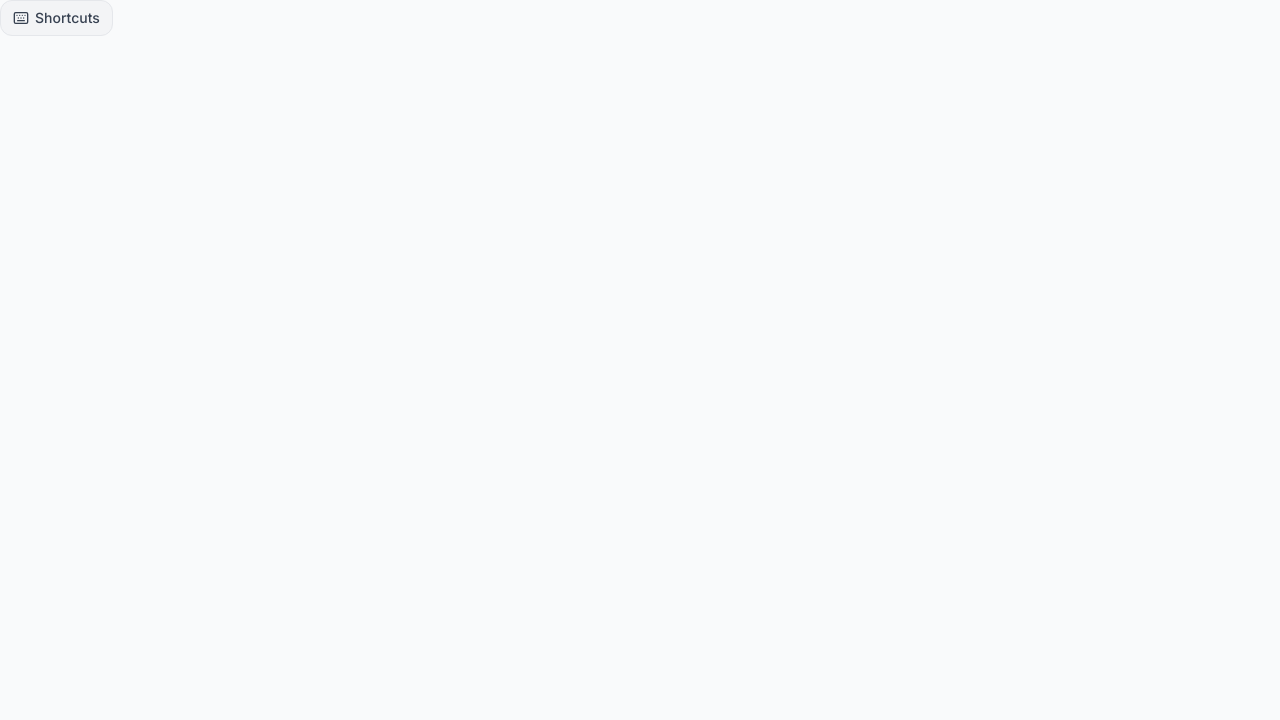
Scenario: KeyboardShortcutsHelp › closes the modal when the X button is clicked
Click the button "Shortcuts".
click(56, 18)  # box [0,0,113,36]
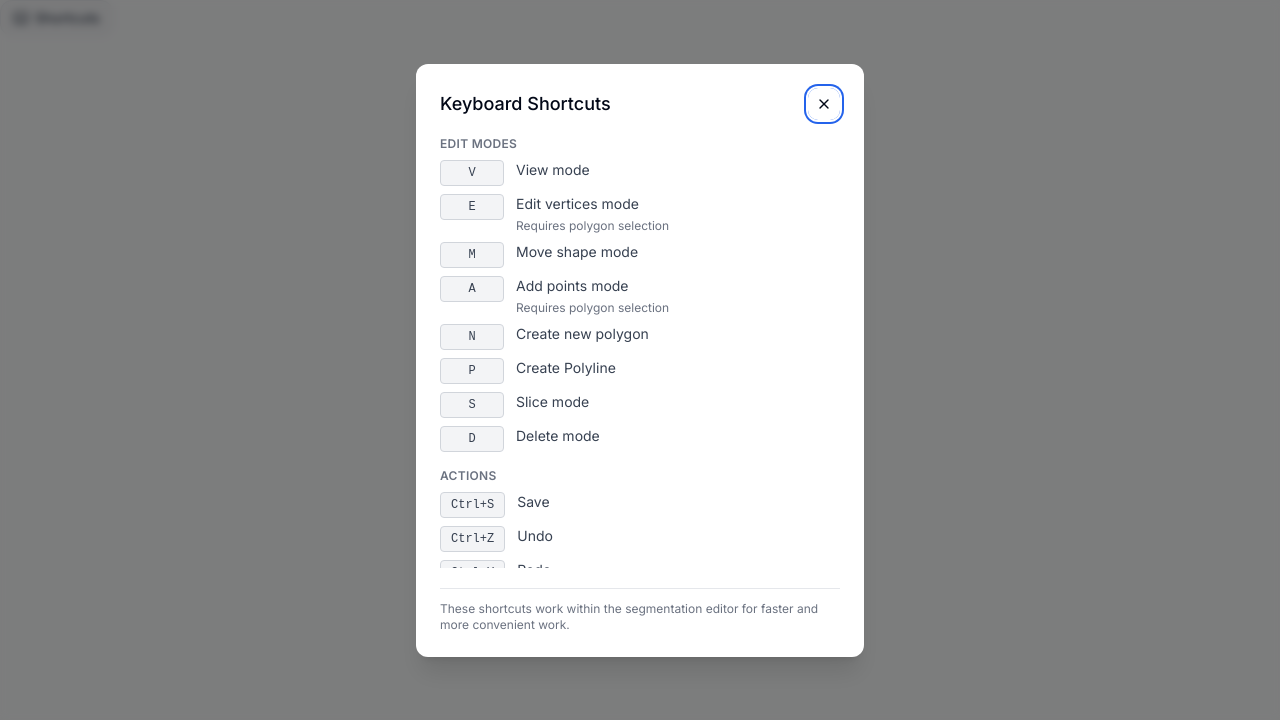
Now the heading "Keyboard Shortcuts" is shown, box [440,90,611,118]
Now the button named "Cancel" is shown
Click the button named "Cancel".
click(824, 104)  # box [808,88,840,120]
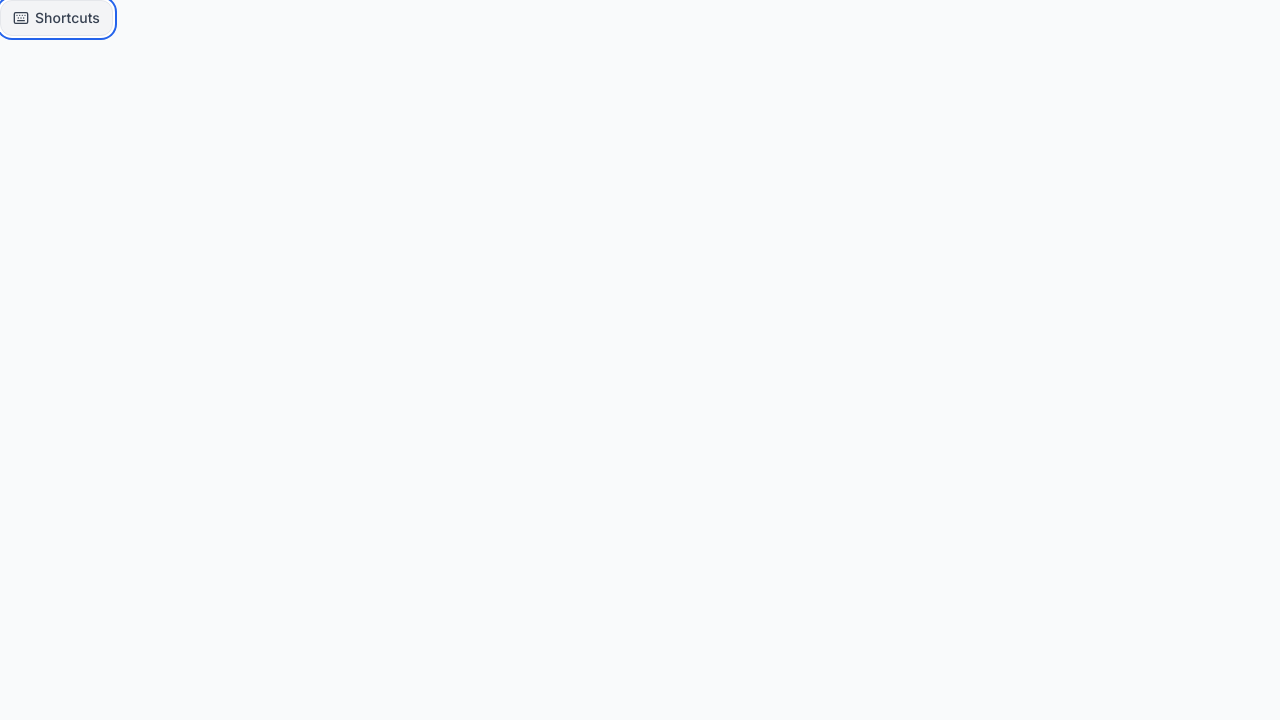
Now the heading "Keyboard Shortcuts" is gone
